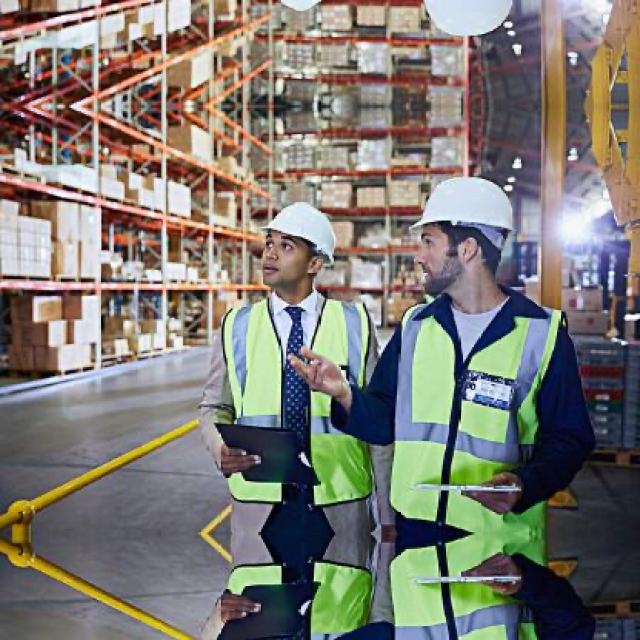Reflective-Jacket: (381, 290, 577, 526), (211, 290, 374, 510)
Safety-Helmet: (405, 170, 526, 247), (254, 194, 348, 267)
